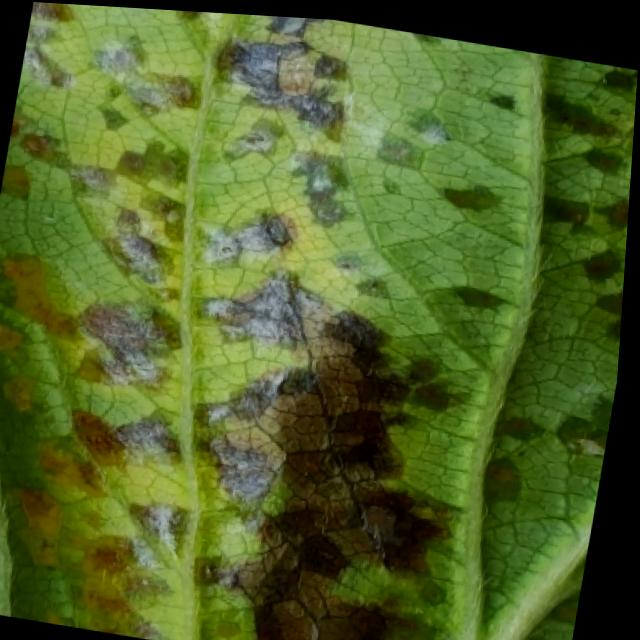Angular Leafspot: (0, 1, 638, 640)
